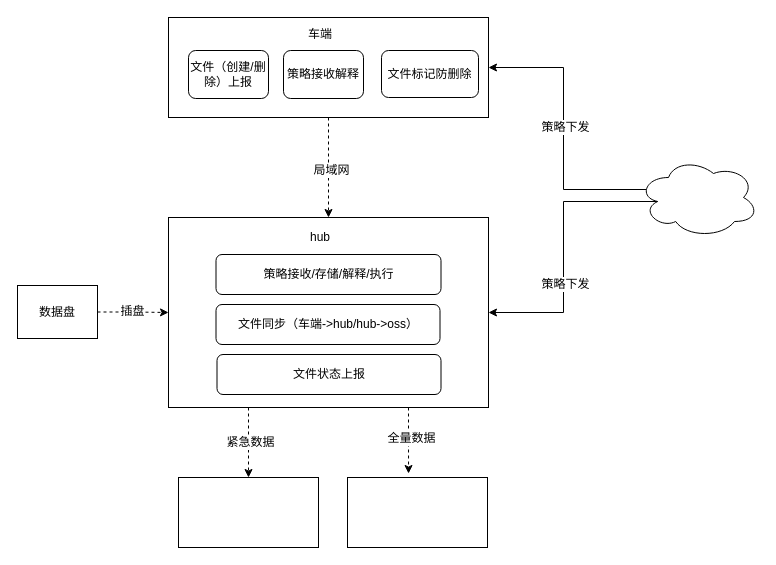
This 776x565 diagram has some shape labels left out. Each missing label, with the centre of its shape:
OSS: (x=248, y=512)
云端应用: (x=698, y=197)
全量数据盘: (x=417, y=512)
